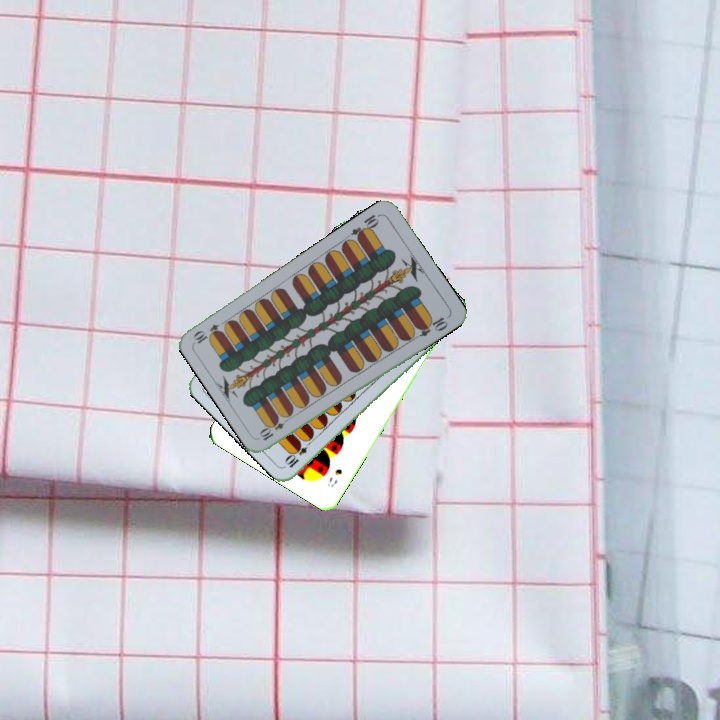E10: (347, 210, 383, 243), (281, 436, 315, 470), (256, 412, 293, 443)
S8: (323, 465, 345, 490)
